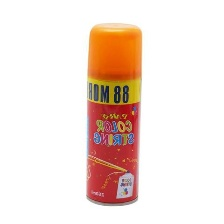aerosol_cans: (81, 16, 146, 209)
